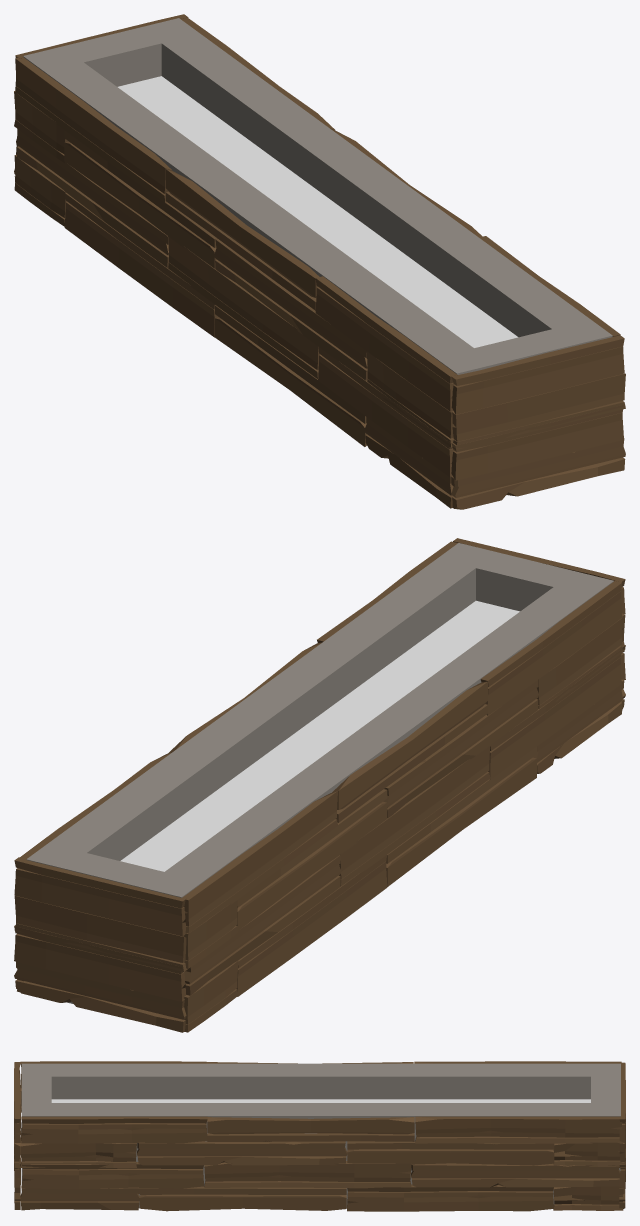
File: wooden_planter.fbx
3 renders of one model, top to bottom at view 1: azimuth 30°, elevation 25°; view 2: azimuth 150°, elevation 25°; view 3: azimuth 270°, elevation 25°, orthographic. The views are drawn at different scales.
Parts seen in each view (by area): view 1: Plane.006; view 2: Plane.006; view 3: Plane.006.
Part boxes in pixels (x1,y1,x2,y2): Plane.006: (14, 14, 625, 509); Plane.006: (14, 538, 625, 1032); Plane.006: (14, 1061, 625, 1211).
Bounding box in the file's own units: 93.57 × 69.39 × 415.
